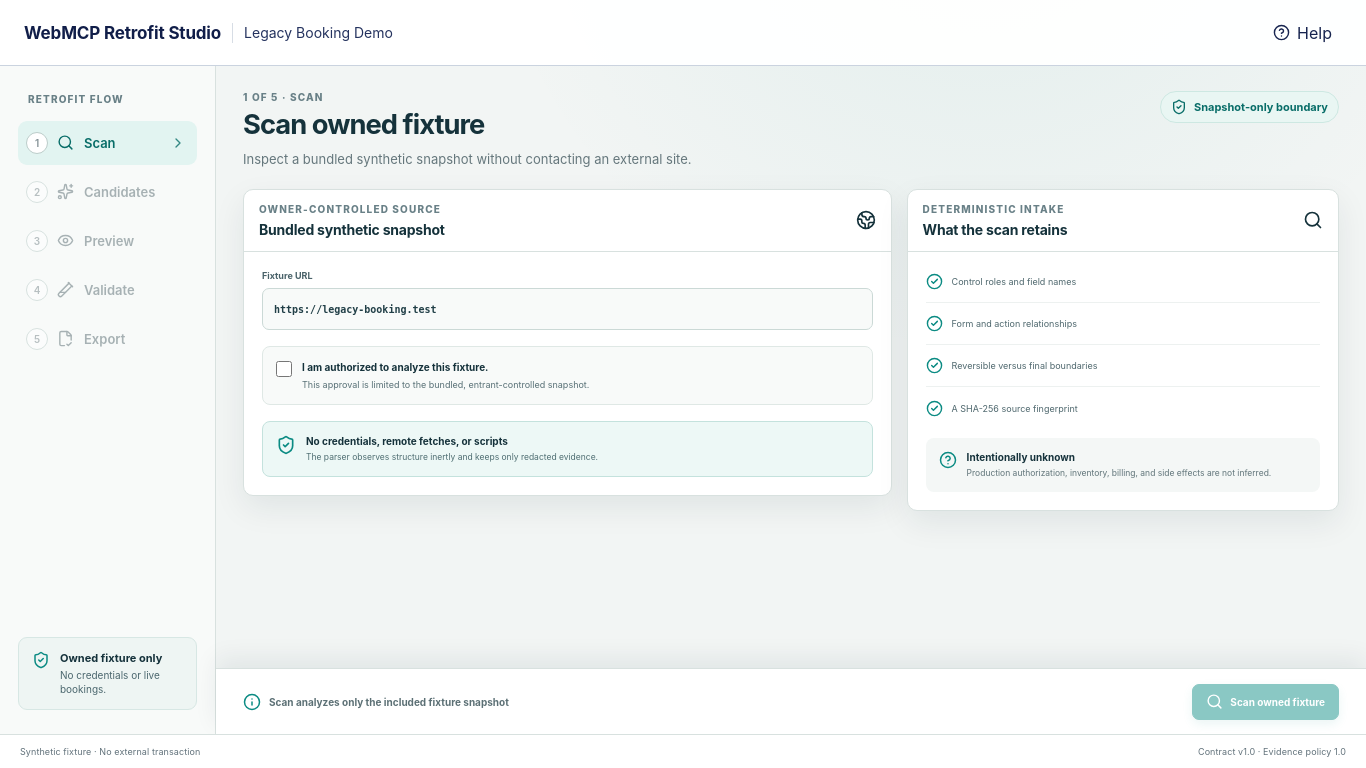
Test case: Retrofit Studio workbench › routes CEO mode to its prompt and decision-first presentation
Click the checkbox labelled "authorized to analyze this fixture": {"x": 284, "y": 369} [276,361,292,377]
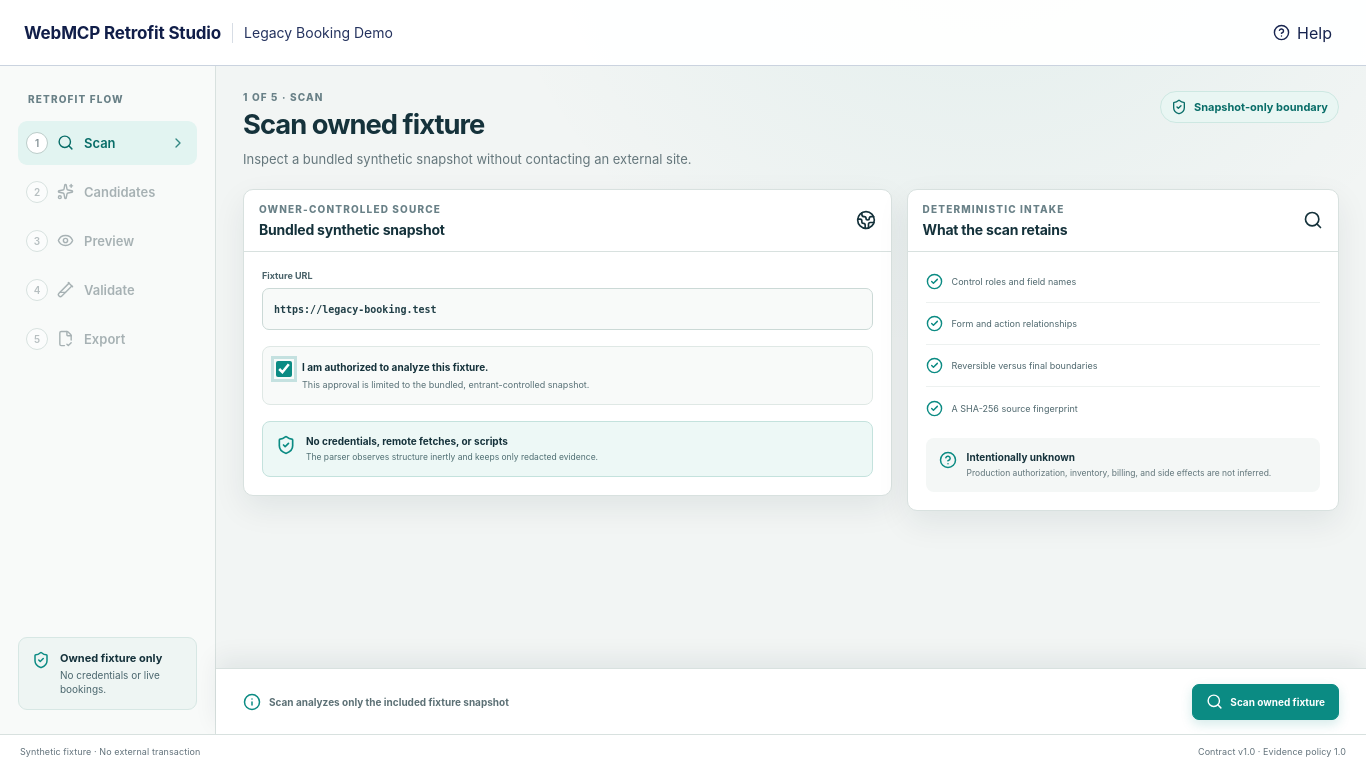
Click the button "Scan owned fixture": {"x": 1266, "y": 702} [1192,684,1339,720]
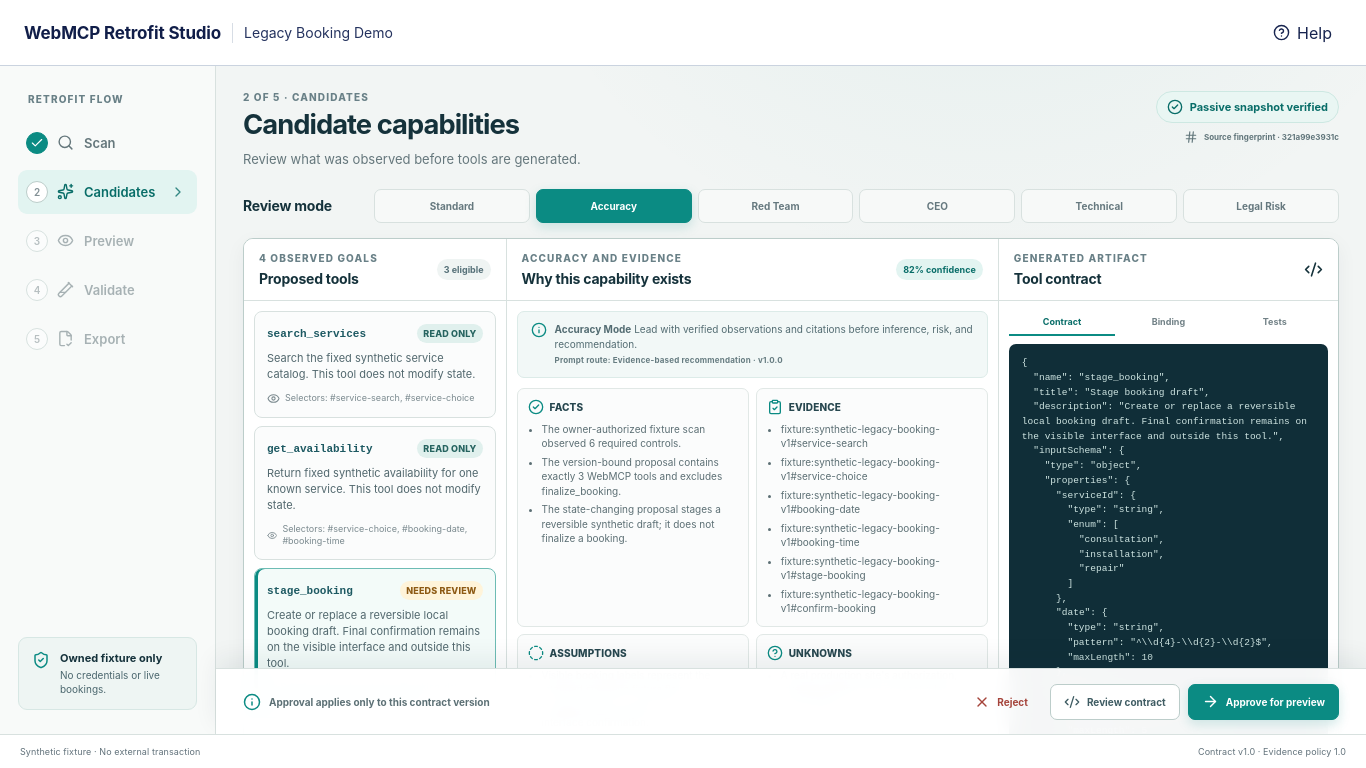
Now the heading "Candidate capabilities" is shown, box [243,108,519,140]
Click the button named "CEO Review Mode": {"x": 937, "y": 206} [860,189,1015,223]
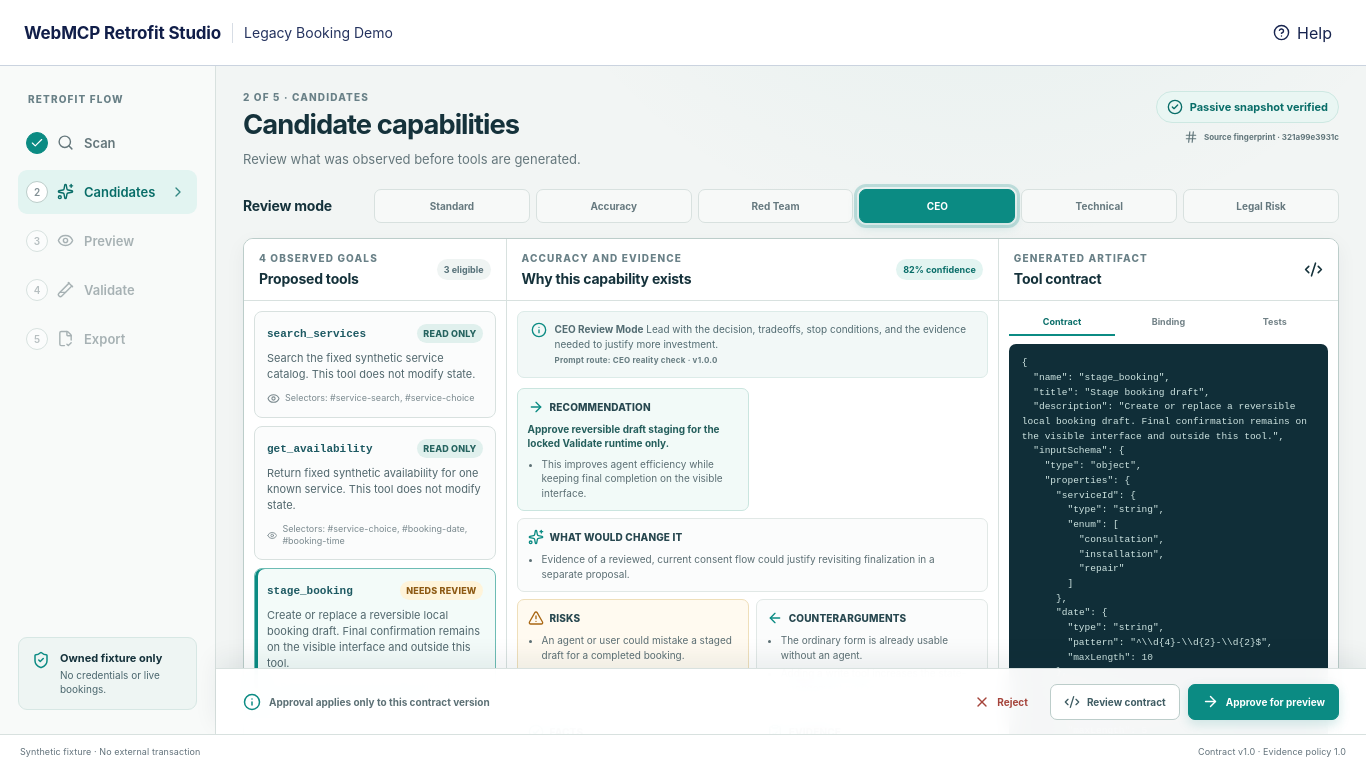
Now the heading "Recommendation" is shown, box [528,399,651,415]
Now the text "Prompt route: CEO reality check · v1.0.0" is shown, box [554,355,718,365]
